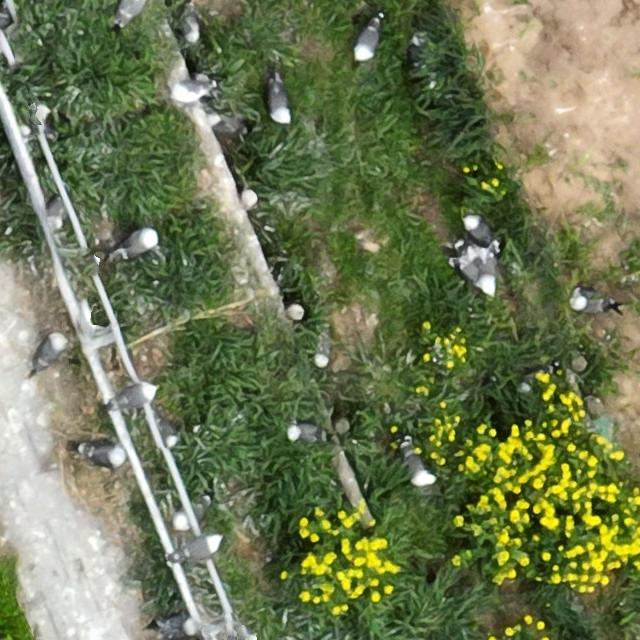umineko: (454, 238, 500, 296), (177, 492, 213, 529), (404, 451, 433, 486), (119, 229, 157, 253), (268, 81, 290, 122), (465, 217, 494, 246), (118, 386, 156, 407), (182, 536, 220, 557), (358, 23, 380, 59), (83, 444, 122, 464), (39, 334, 64, 364), (176, 82, 213, 100), (117, 1, 145, 23), (156, 414, 178, 442), (159, 614, 192, 632), (288, 423, 322, 440), (574, 298, 611, 313), (184, 8, 198, 42), (241, 188, 258, 209), (234, 624, 255, 640)
